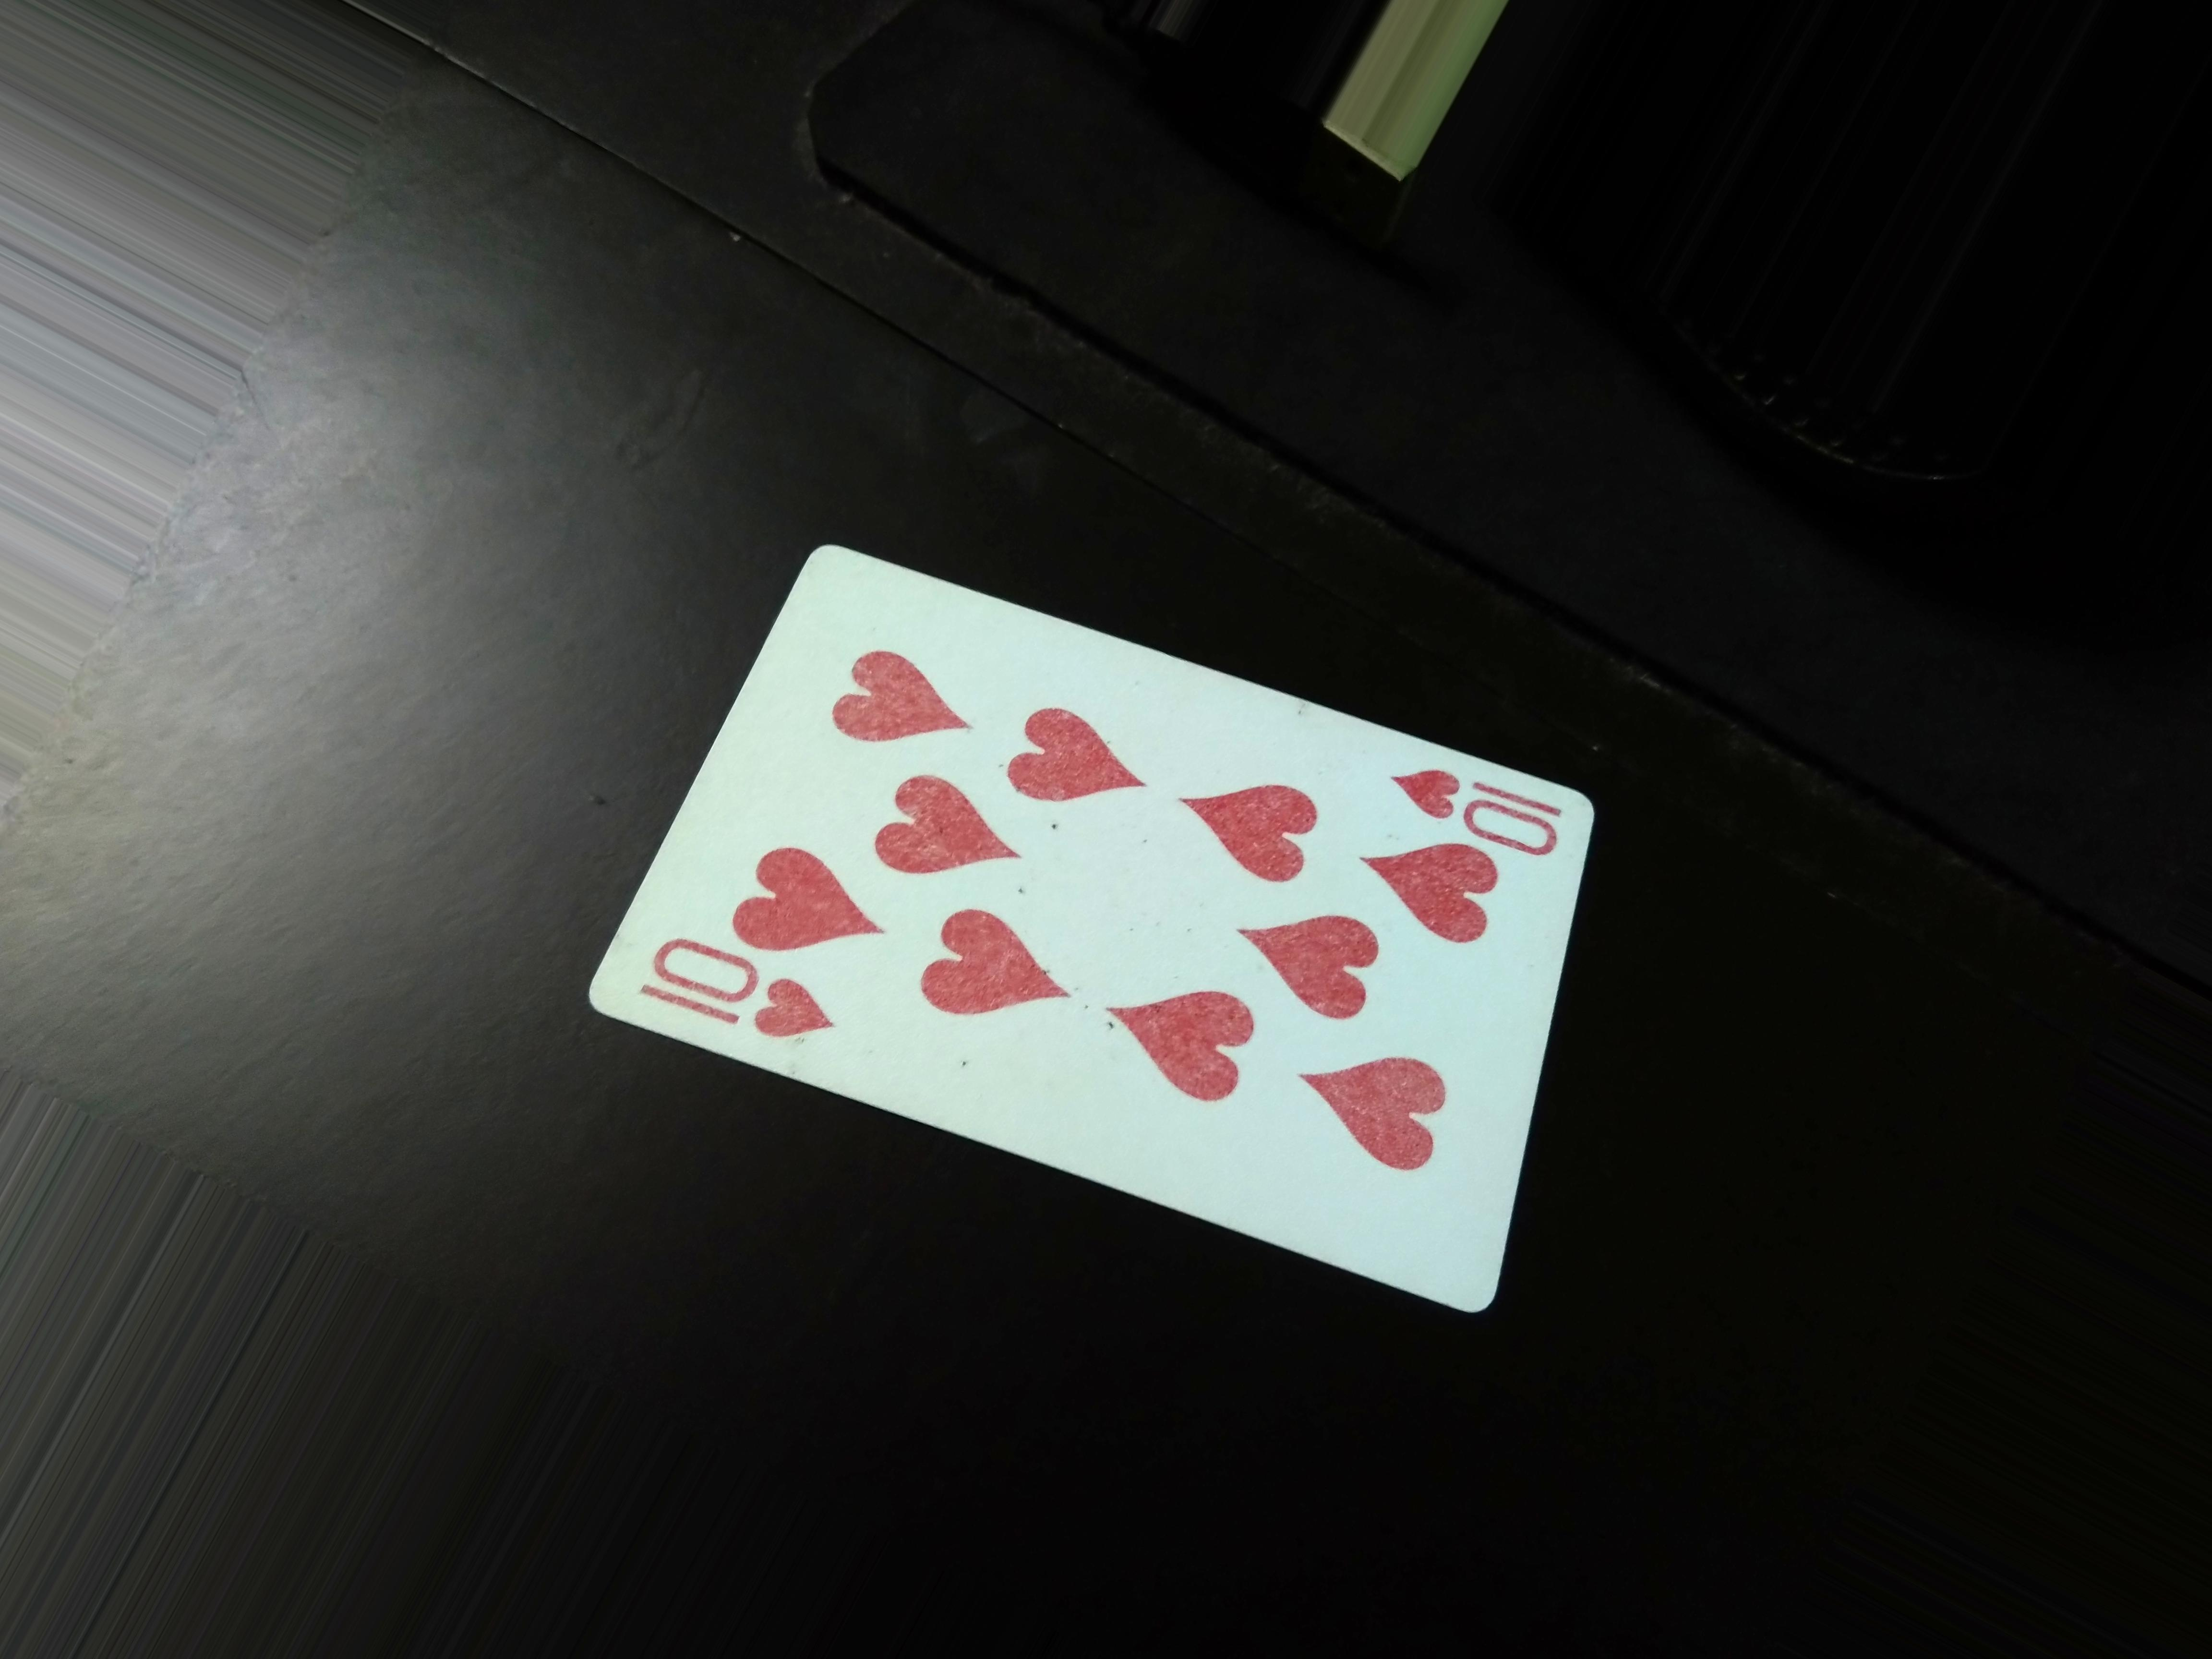10H: (627, 929, 859, 1049)
